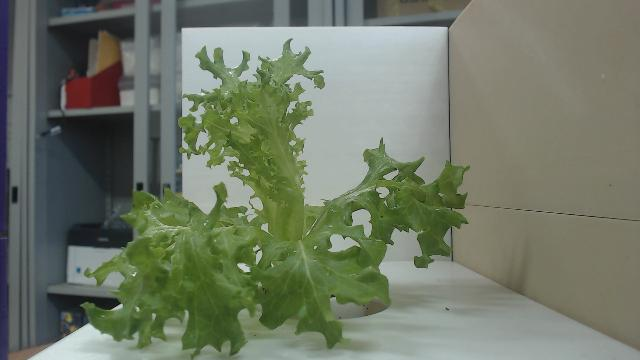Harvest Stage: (80, 38, 472, 360)
